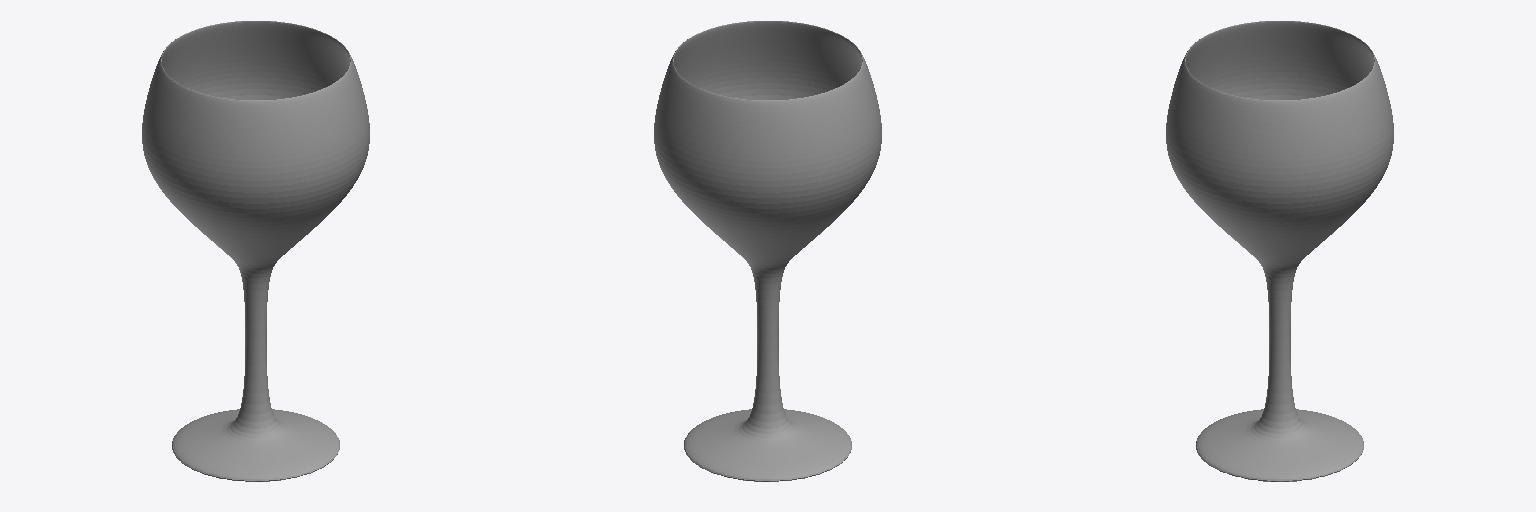
Rendered from GlassWine.obj.
3 renders of one model, left to right at view 1: azimuth 30°, elevation 25°; view 2: azimuth 150°, elevation 25°; view 3: azimuth 270°, elevation 25°, orthographic.
Visible parts, largest first — view 1: Glass.001_Cylinder.001; view 2: Glass.001_Cylinder.001; view 3: Glass.001_Cylinder.001.
Part boxes in pixels (left/top/right/bottom): Glass.001_Cylinder.001: left=142, top=21, right=369, bottom=481; Glass.001_Cylinder.001: left=654, top=21, right=881, bottom=481; Glass.001_Cylinder.001: left=1166, top=21, right=1393, bottom=481.
Bounding box in the file's own units: 2.1 × 3.96 × 2.1.